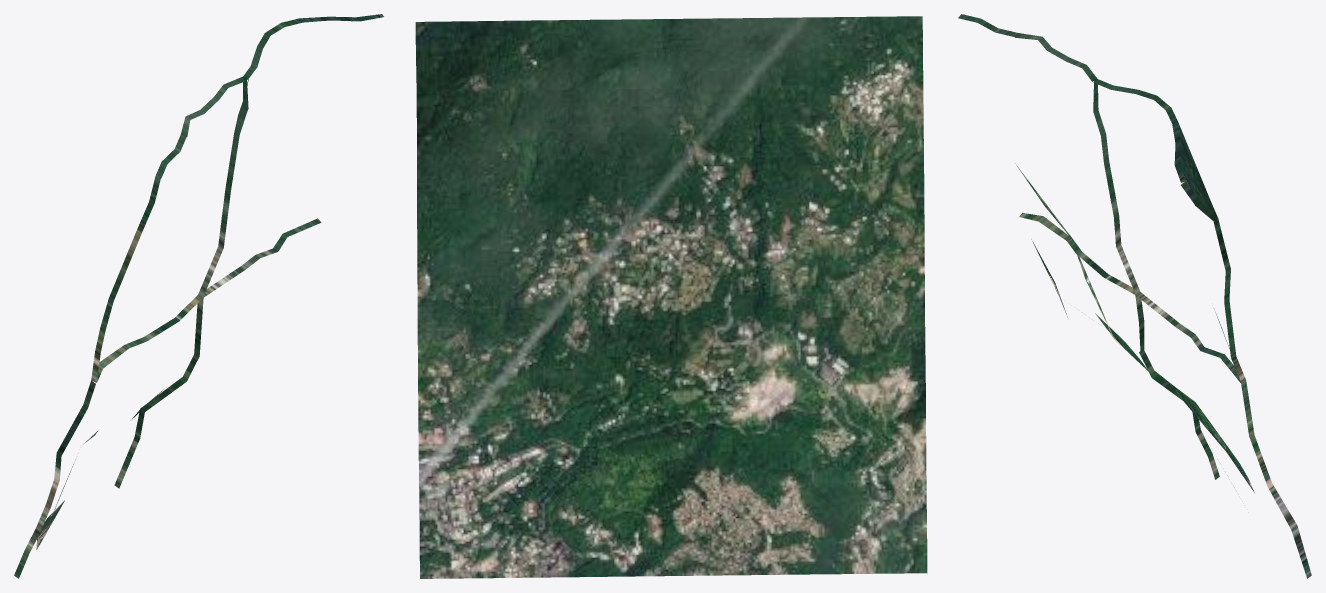
The picture shows the model from 3 angles, left to right: view 1: azimuth 30°, elevation 25°; view 2: azimuth 150°, elevation 25°; view 3: azimuth 270°, elevation 25°; orthographic projection. The views are drawn at different scales.
Bounding box in the file's own units: 2342 × 2482 × 1770.
Materials: 1 (1 with a texture image).
